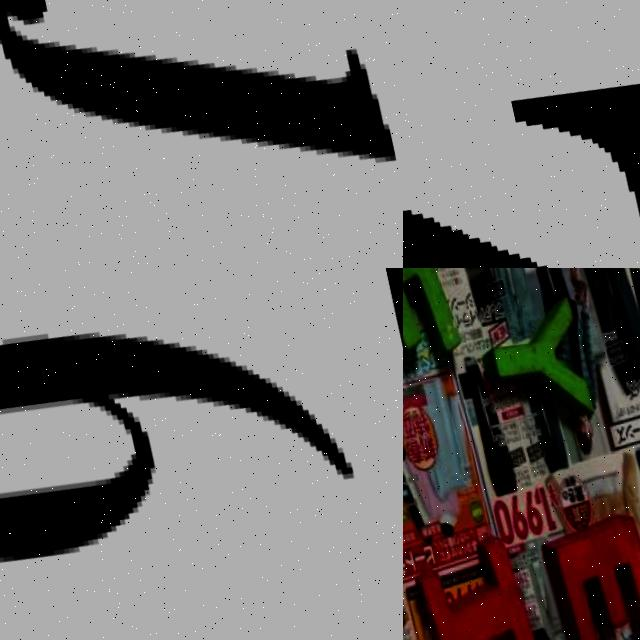6: (0, 268, 374, 617)
E: (539, 492, 640, 640)
F: (403, 268, 463, 368)
I: (412, 518, 546, 640)
J: (0, 0, 403, 268)
Y: (478, 281, 596, 427)
Z: (403, 0, 640, 268)
